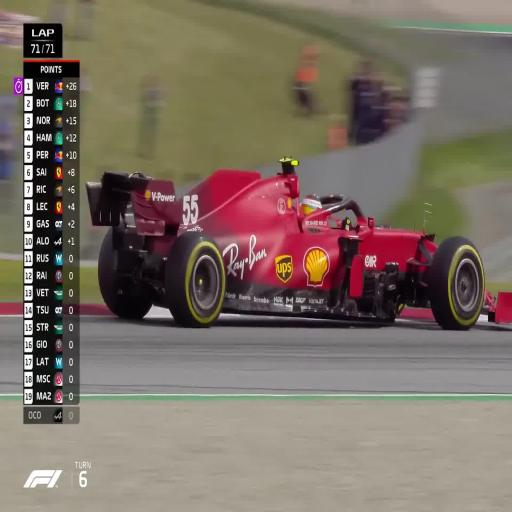f1_car: (86, 158, 512, 329)
